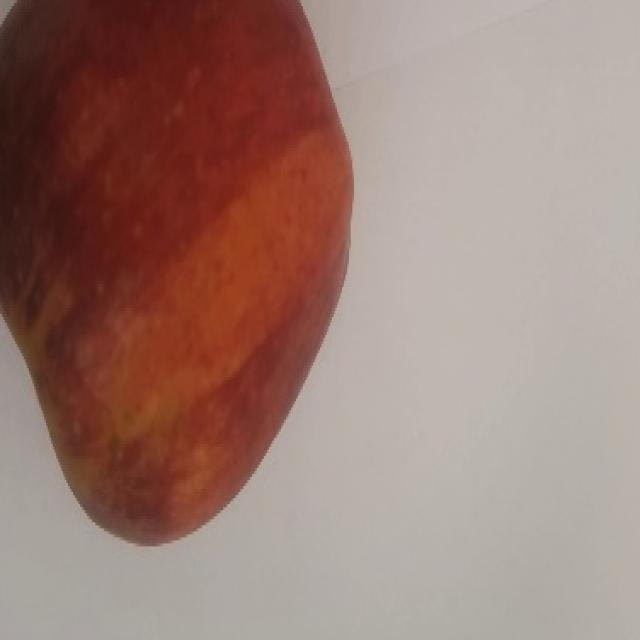Apple: (0, 0, 355, 547)
